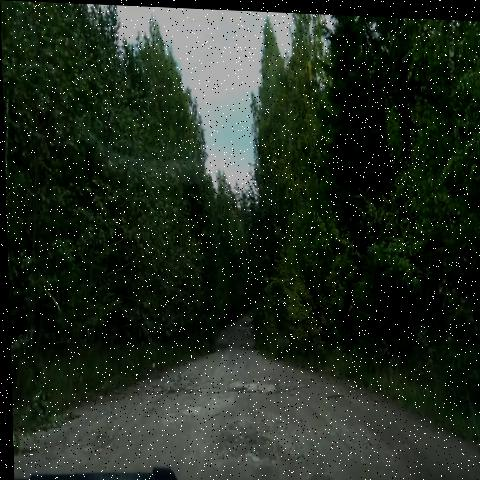pothole: (202, 398, 322, 480), (66, 390, 126, 478), (149, 349, 218, 416), (218, 373, 311, 409)
